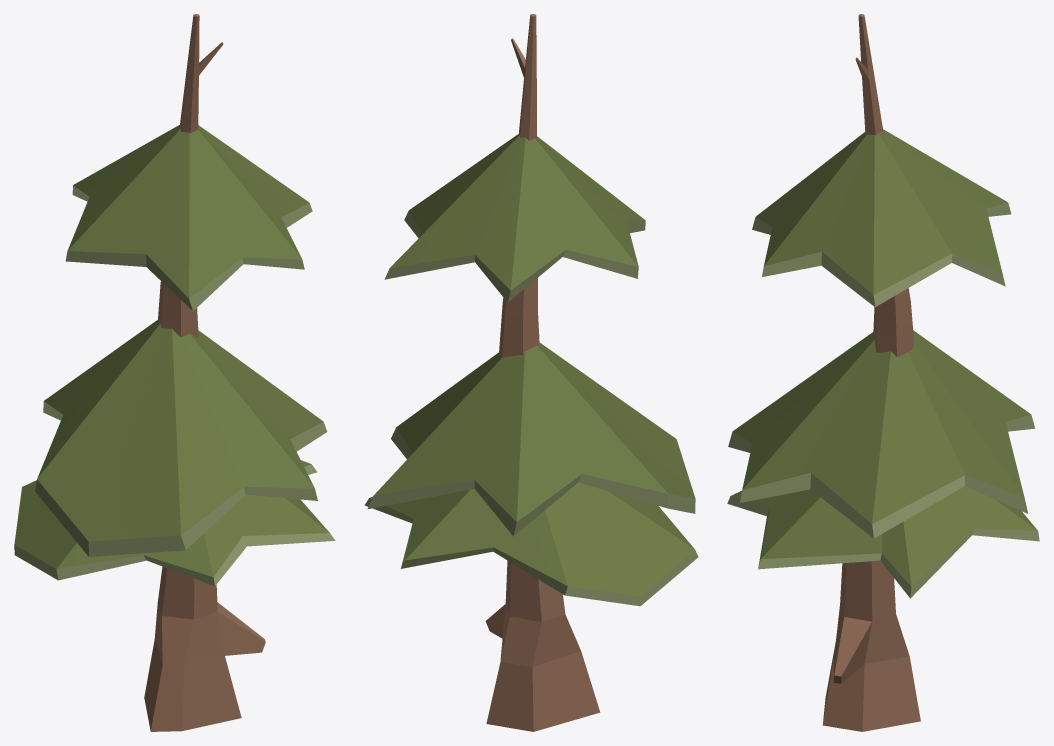
The model's file is fir_tree_7.fbx.
3 views of the same model, side by side, from view 1: azimuth 30°, elevation 25°; view 2: azimuth 150°, elevation 25°; view 3: azimuth 270°, elevation 25° (orthographic).
Parts seen in each view (by area): view 1: tree_7; view 2: tree_7; view 3: tree_7.
Part boxes in pixels (<box>): tree_7: <box>14,14,335,731</box>; tree_7: <box>364,14,698,731</box>; tree_7: <box>727,14,1039,731</box>.
Size of the model in its own units: 277 by 620 by 251.
